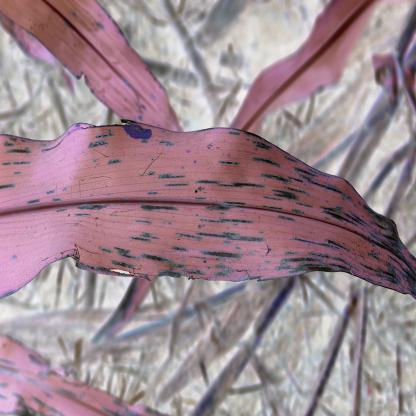corn leaf blight: (2, 127, 416, 300)
